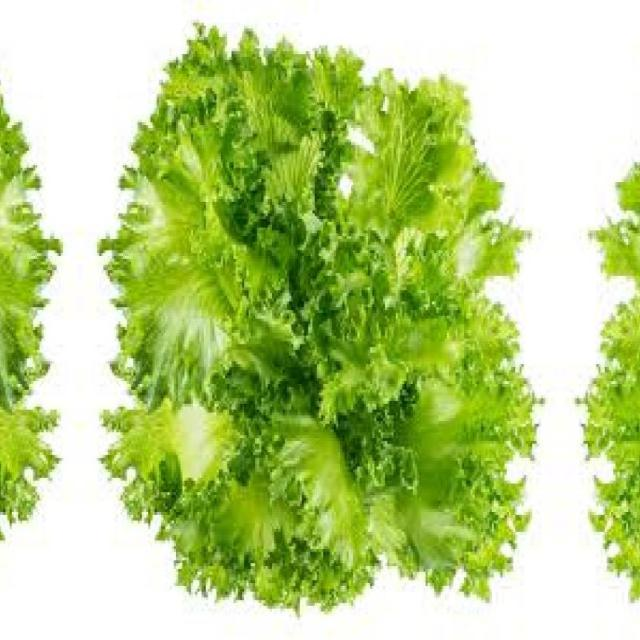healthy: (111, 19, 522, 606), (0, 19, 48, 606), (597, 19, 640, 606)
